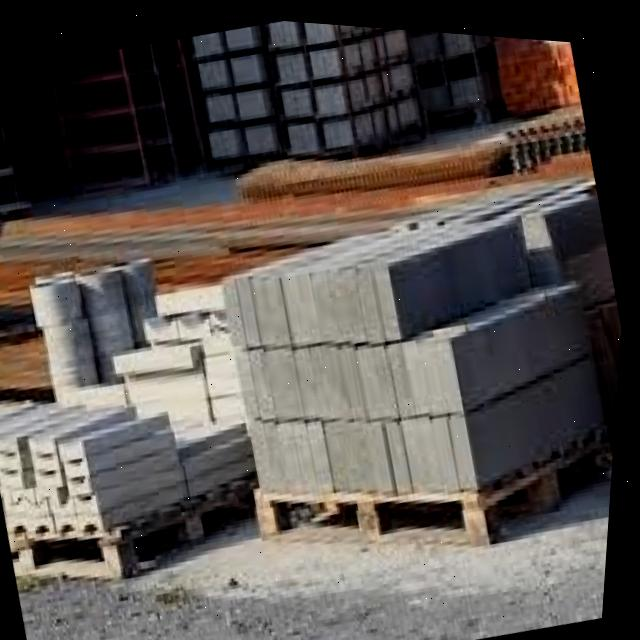bricks: (226, 219, 603, 492)
